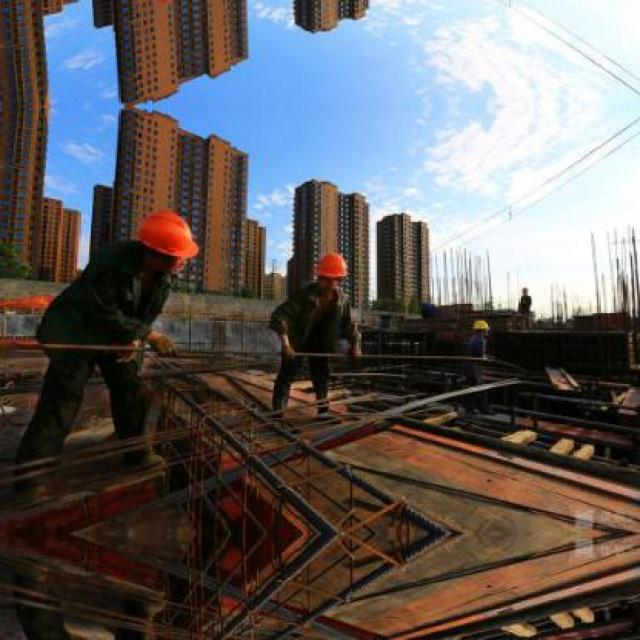helmet: (126, 206, 200, 280), (312, 246, 350, 298), (474, 313, 489, 339)
